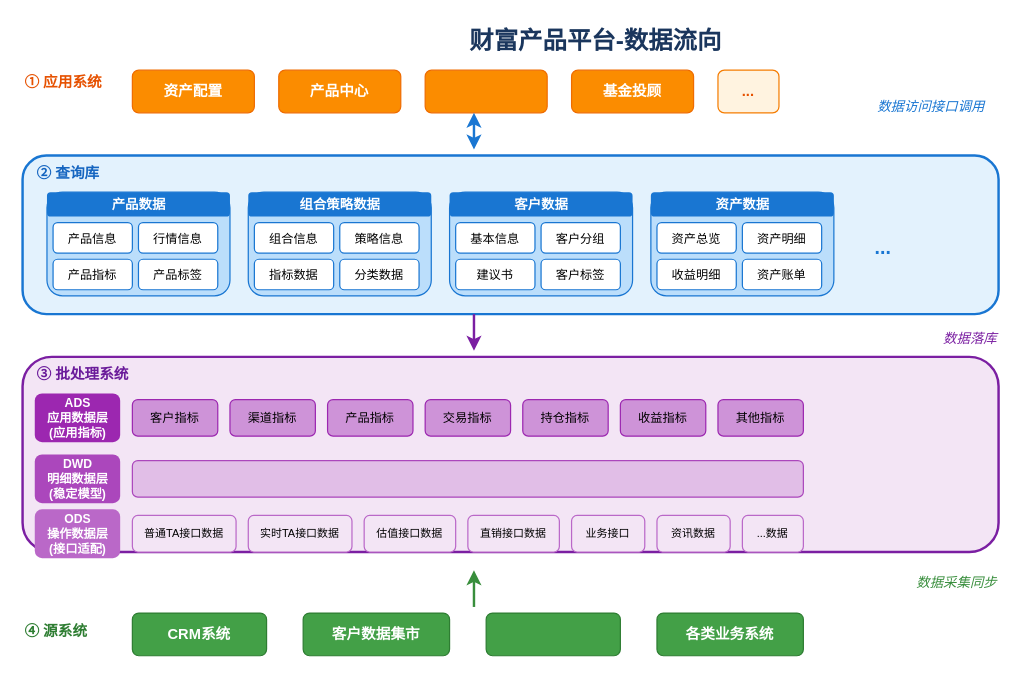
This 1020x677 diagram has some shape labels left out. Each missing label, with the centre of its shape:
产品研究: (x=485, y=91)
数据主题域（客户、基金账户、产品、渠道、参数、交易、持仓）: (x=467, y=478)
聚源数据: (x=552, y=634)
